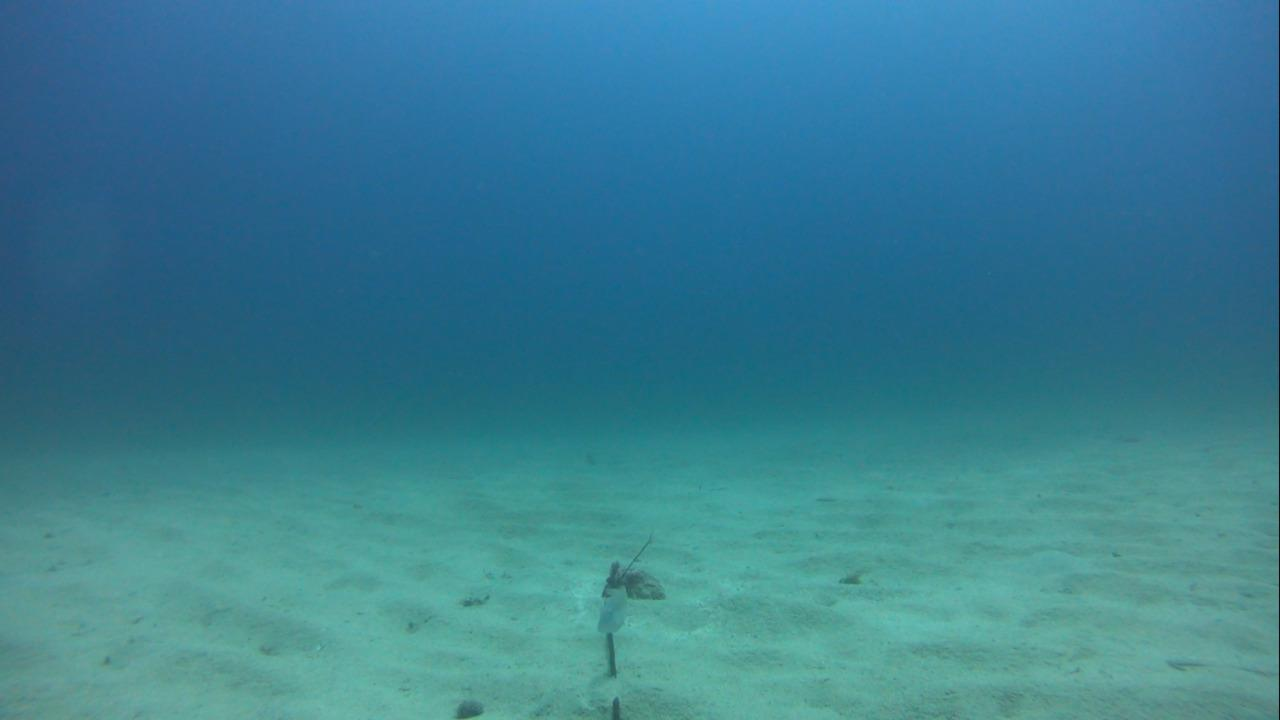raor: (589, 581, 634, 637)
